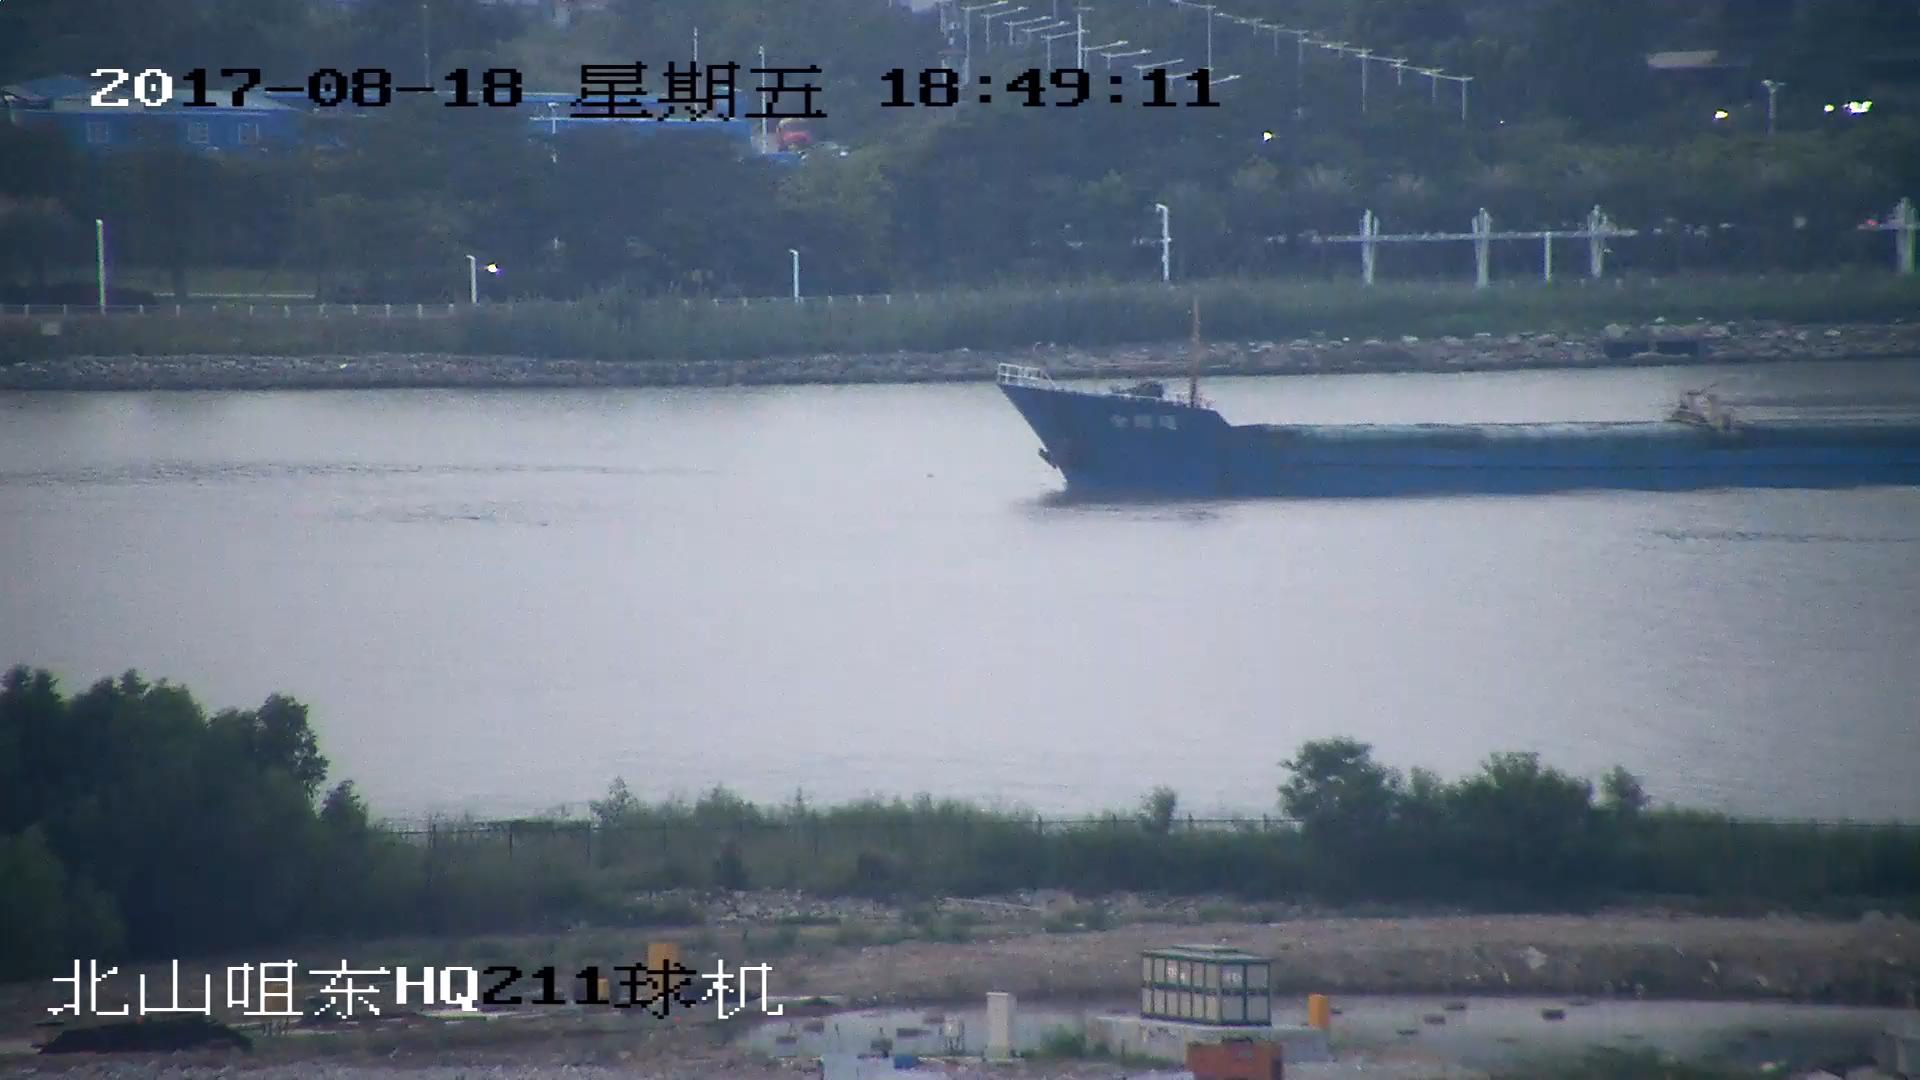Ship: (998, 367, 1920, 496)
